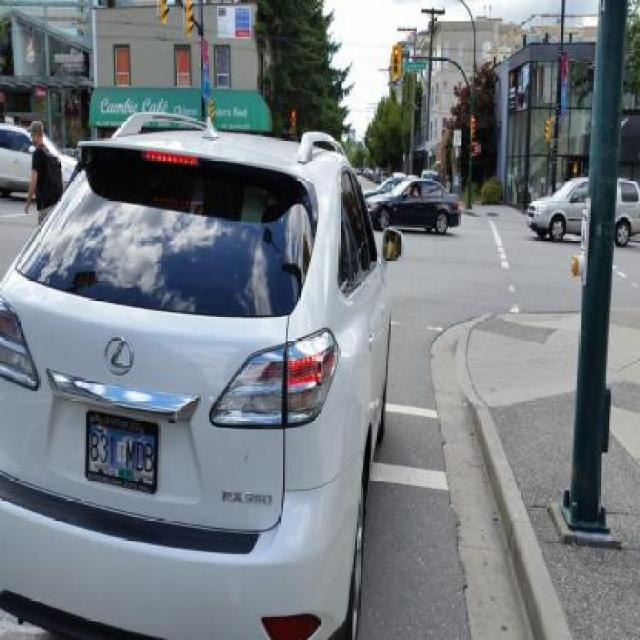License-Plates: (85, 408, 160, 496)
